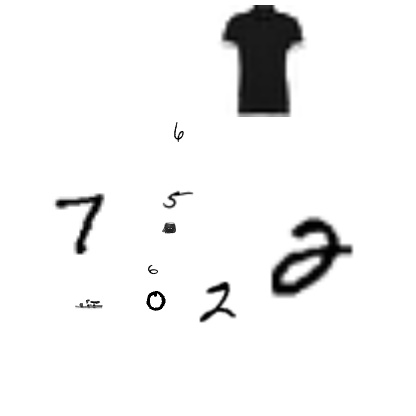0: (142, 286, 170, 314)
2: (252, 201, 364, 313), (190, 272, 246, 328)
5: (154, 176, 196, 218)
6: (164, 119, 192, 147), (145, 263, 159, 277)
7: (41, 173, 125, 257)
Bag: (162, 221, 176, 235)
Sandal: (75, 290, 103, 318)
T-shirt/top: (206, 5, 318, 117)
